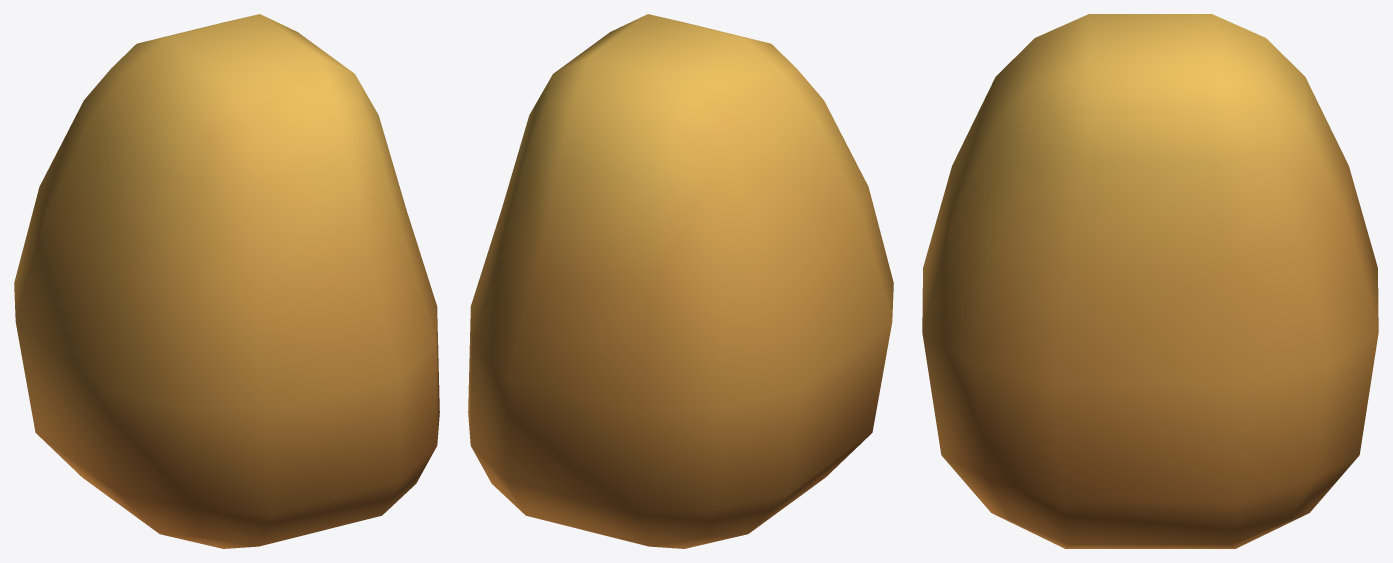
Rendered from ing_potato.glb.
The picture shows the model from 3 angles, left to right: view 1: azimuth 30°, elevation 25°; view 2: azimuth 150°, elevation 25°; view 3: azimuth 270°, elevation 25°; orthographic projection. The views are drawn at different scales.
Parts seen in each view (by area): view 1: food_ingredient_potato_Cube.18442; view 2: food_ingredient_potato_Cube.18442; view 3: food_ingredient_potato_Cube.18442.
Boxes of the visible parts, <box> form: food_ingredient_potato_Cube.18442: <box>14,14,439,548</box>; food_ingredient_potato_Cube.18442: <box>468,14,893,548</box>; food_ingredient_potato_Cube.18442: <box>922,14,1378,548</box>.
Bounding box in the file's own units: 0.6 × 0.78 × 0.68.
Materials: 1 (1 with a texture image).
